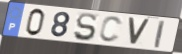0: (24, 8, 46, 36)
8: (50, 11, 72, 38)
C: (98, 15, 124, 44)
I: (153, 19, 166, 49)
S: (73, 12, 98, 43)
V: (127, 16, 152, 47)
